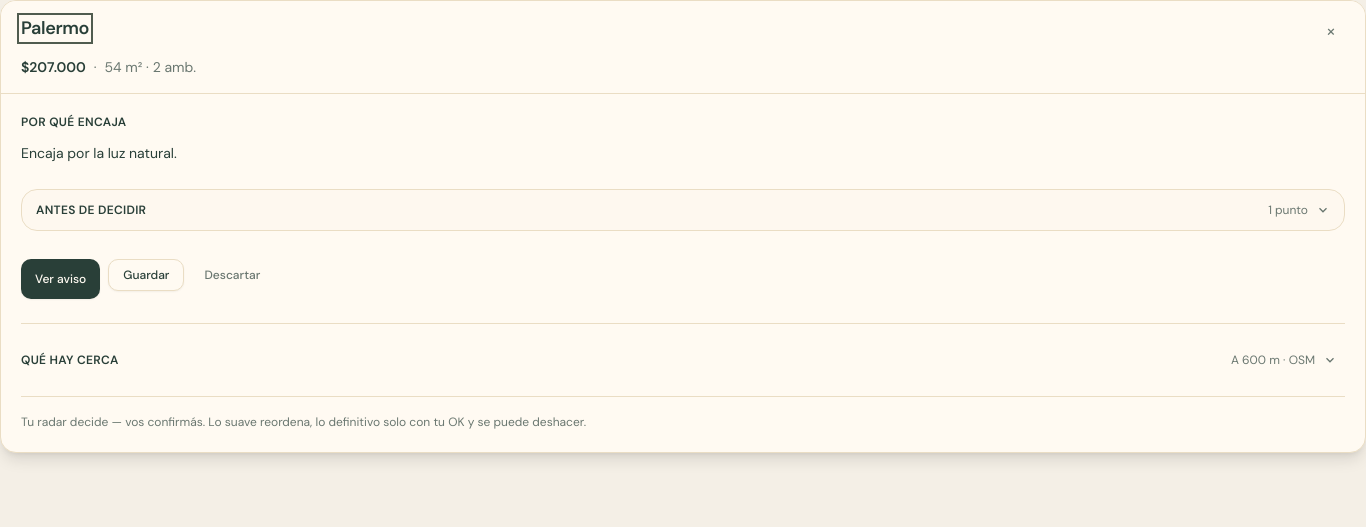
Test: OpportunityDetailSheet › traduce un reparo activo sin filtrar su texto interno
The width and height of the screenshot is (1366, 527).
What coordinates should you click on to do the following:
click the button "Antes de decidir 1 punto"
I would click on:
 (91, 210)
Its box is [22,190,1344,230].
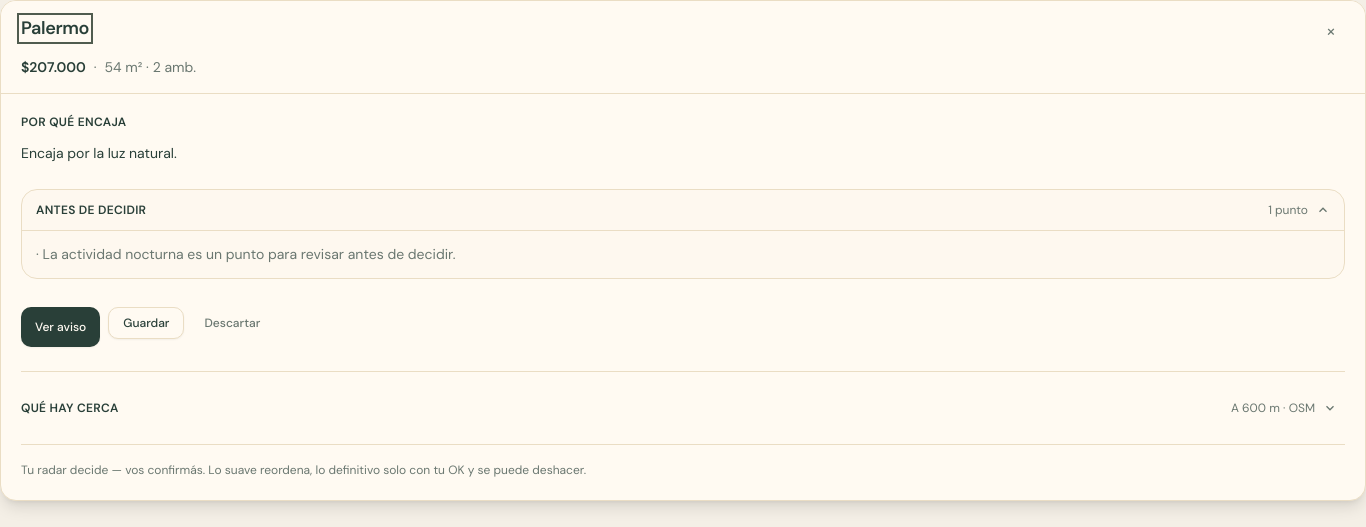
Check: the text "La actividad nocturna es un punto para revisar antes de decidir." is shown, box [42,245,456,263]
